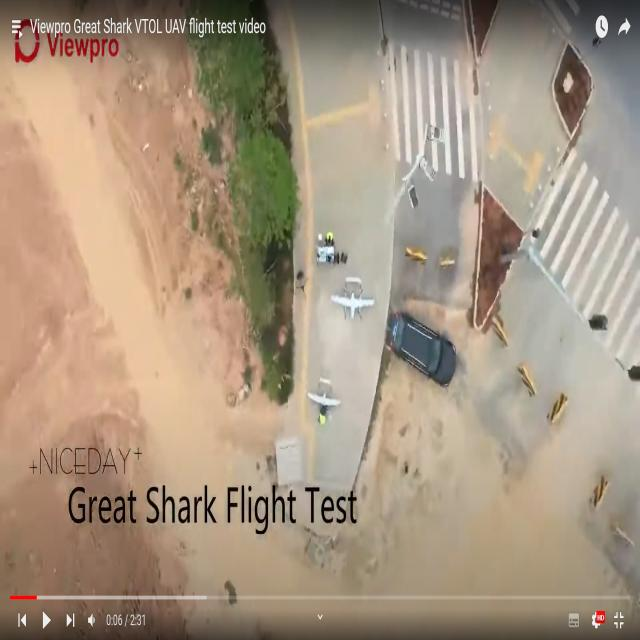iha: (330, 276, 375, 320)
